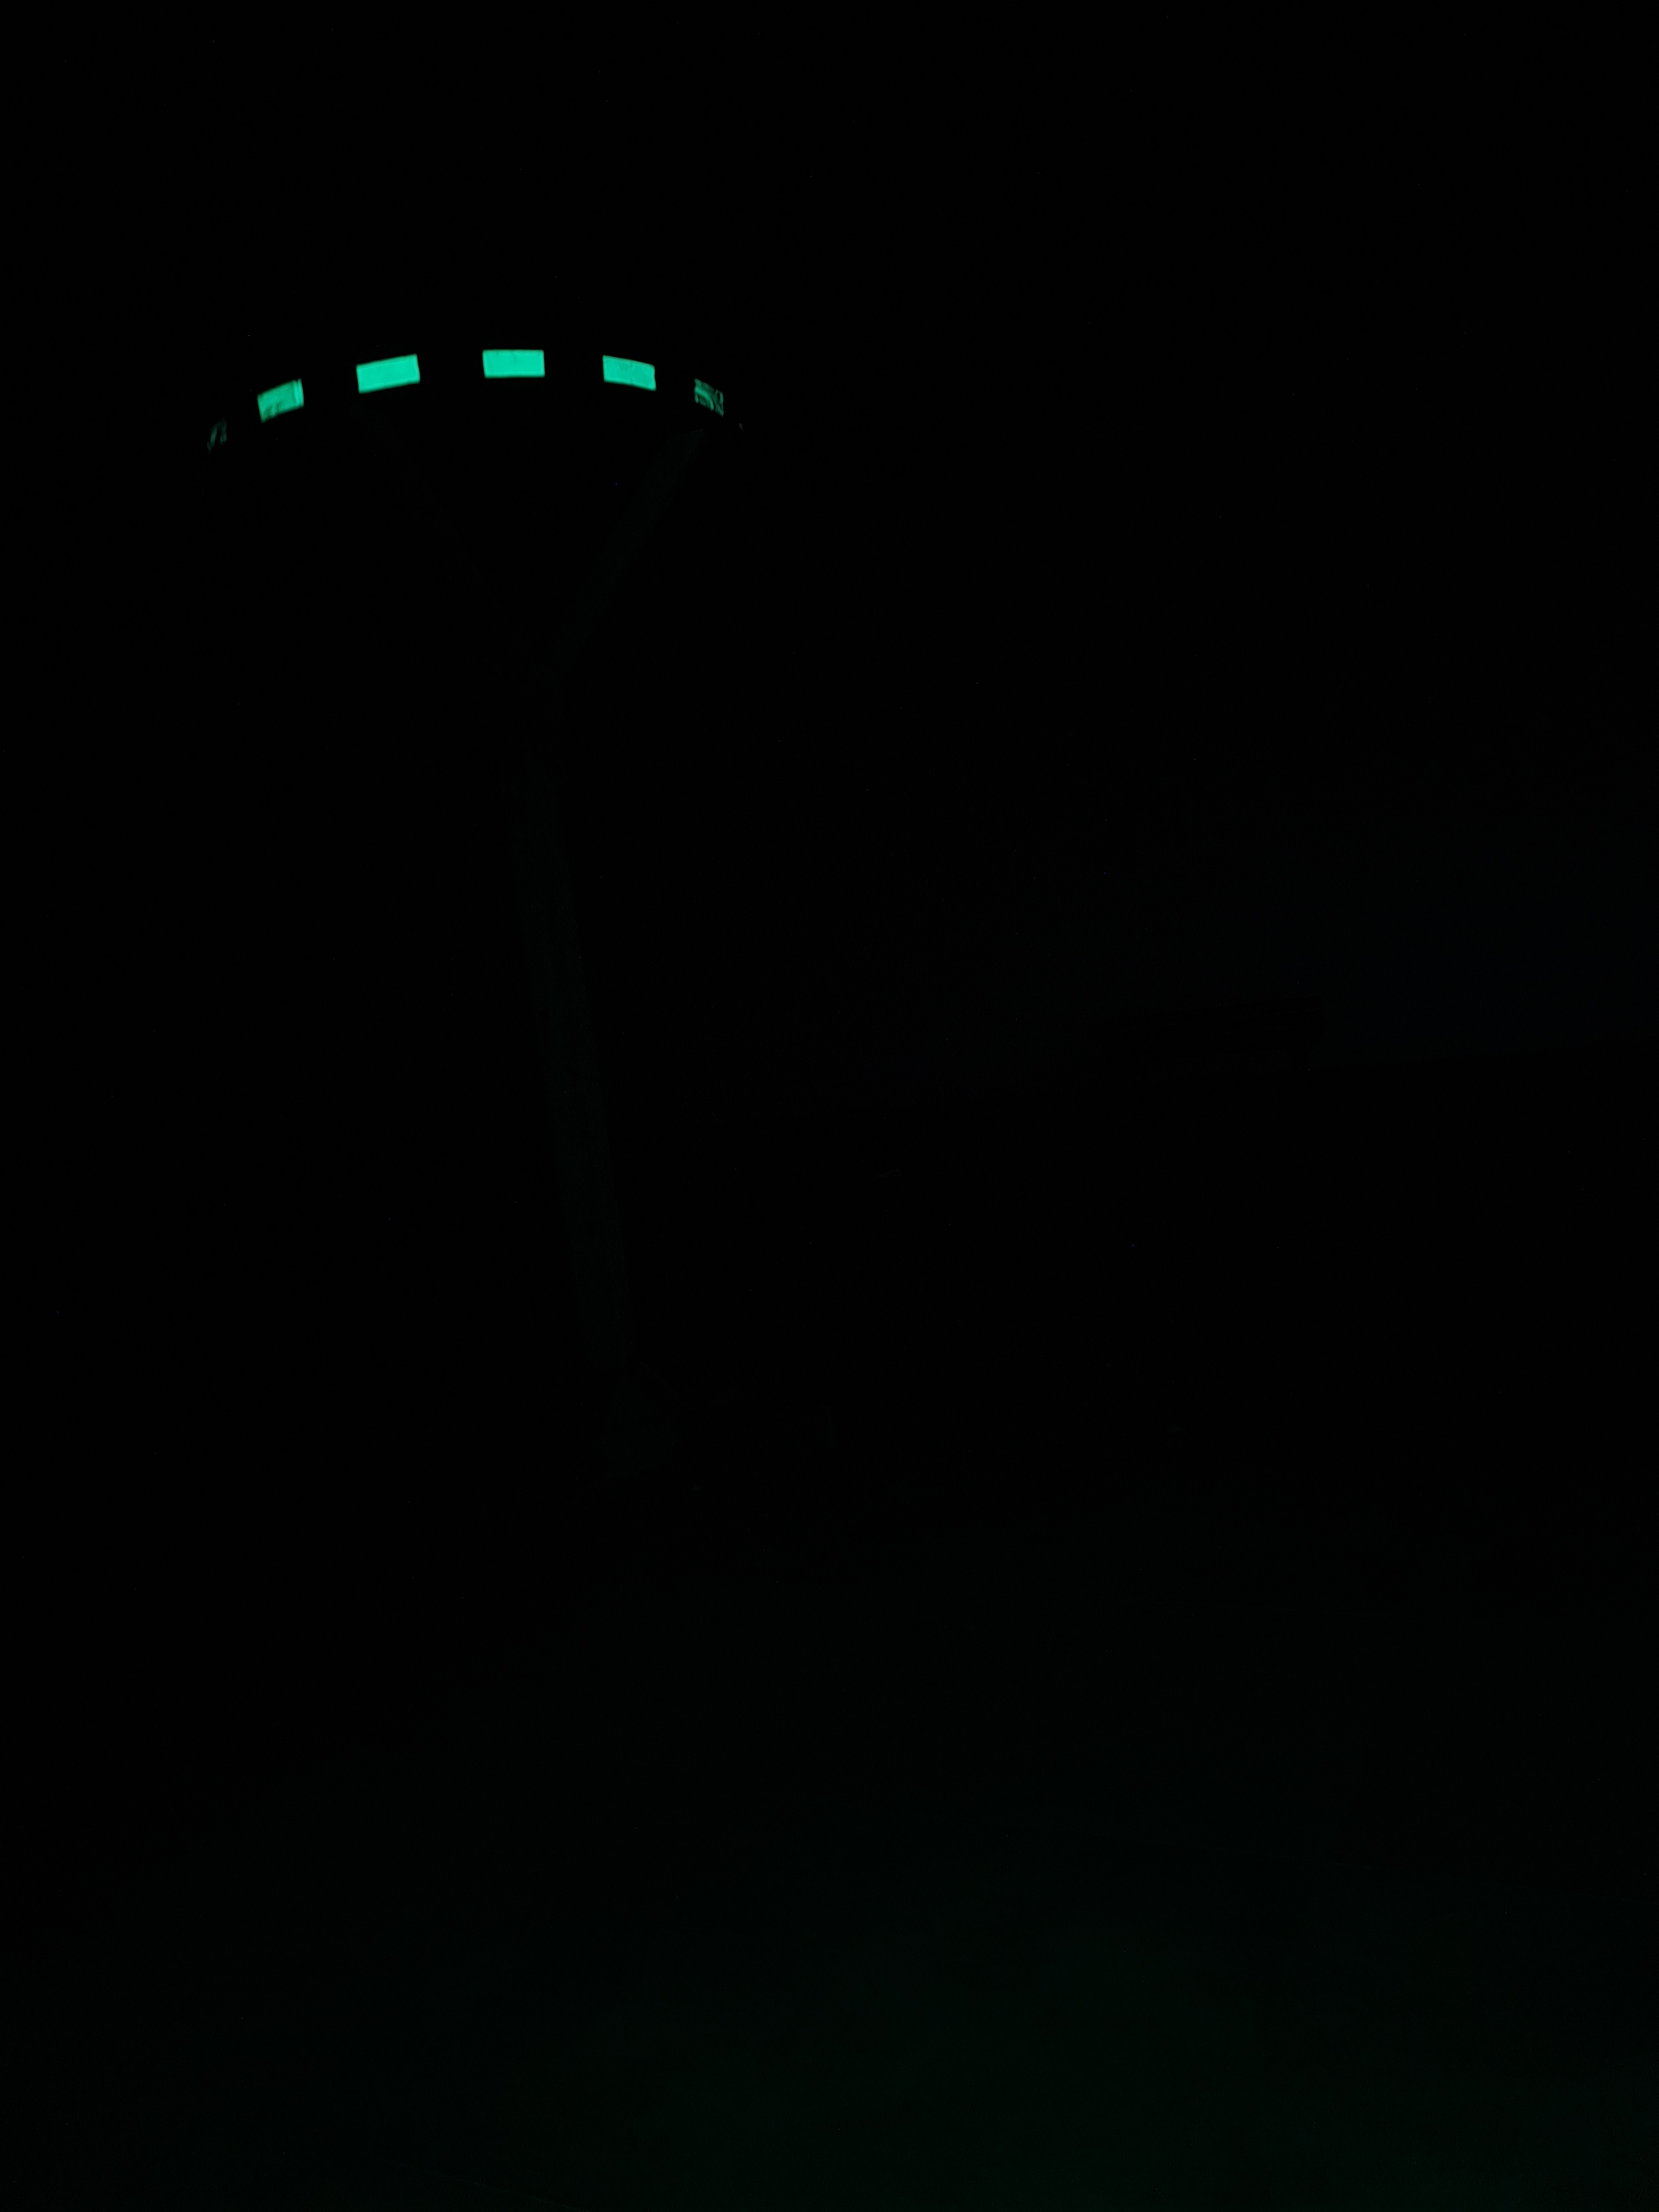hoop: (193, 345, 728, 444)
